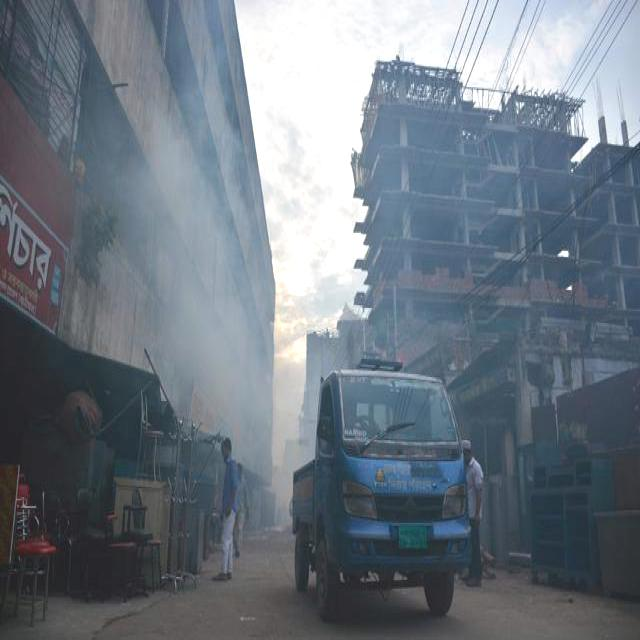TRUCK: (288, 358, 477, 623)
